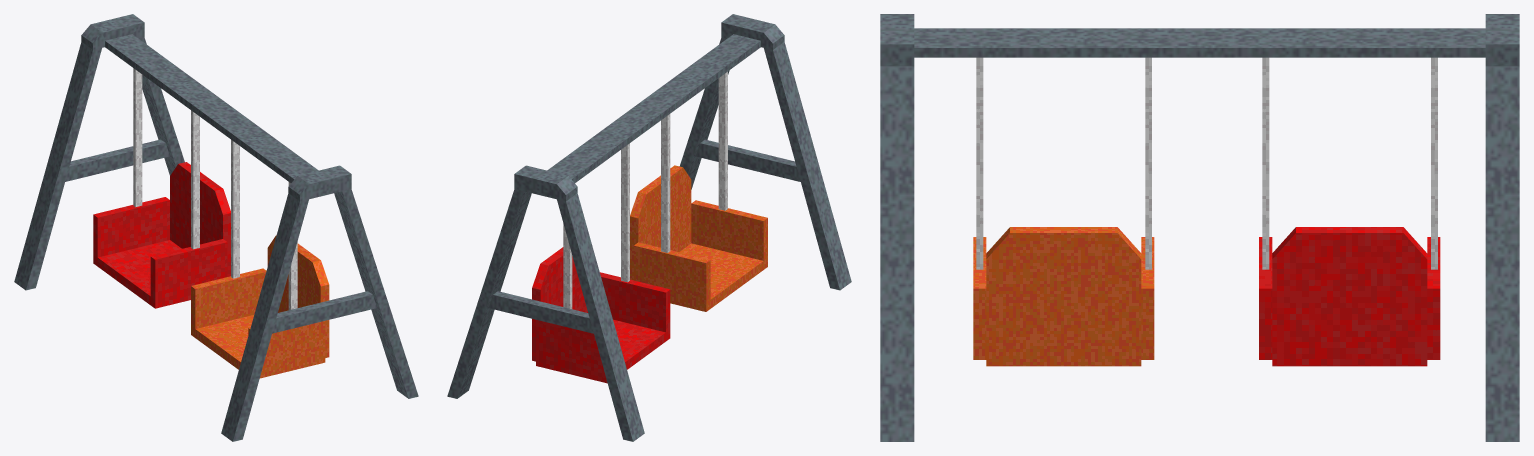
Rendered from BGN_SWING.fbx.
The picture shows the model from 3 angles, left to right: view 1: azimuth 30°, elevation 25°; view 2: azimuth 150°, elevation 25°; view 3: azimuth 270°, elevation 25°; orthographic projection. The views are drawn at different scales.
Parts seen in each view (by area): view 1: BGN_SWING; view 2: BGN_SWING; view 3: BGN_SWING.
Part boxes in pixels (x1,y1,x2,y2): BGN_SWING: (14, 14, 418, 441); BGN_SWING: (447, 14, 851, 441); BGN_SWING: (880, 14, 1519, 441).
Bounding box in the file's own units: 144 × 177 × 293.
